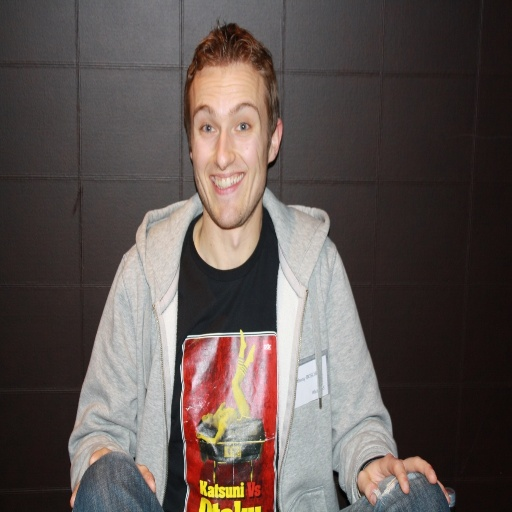hand: (68, 445, 156, 509), (364, 443, 450, 507)
